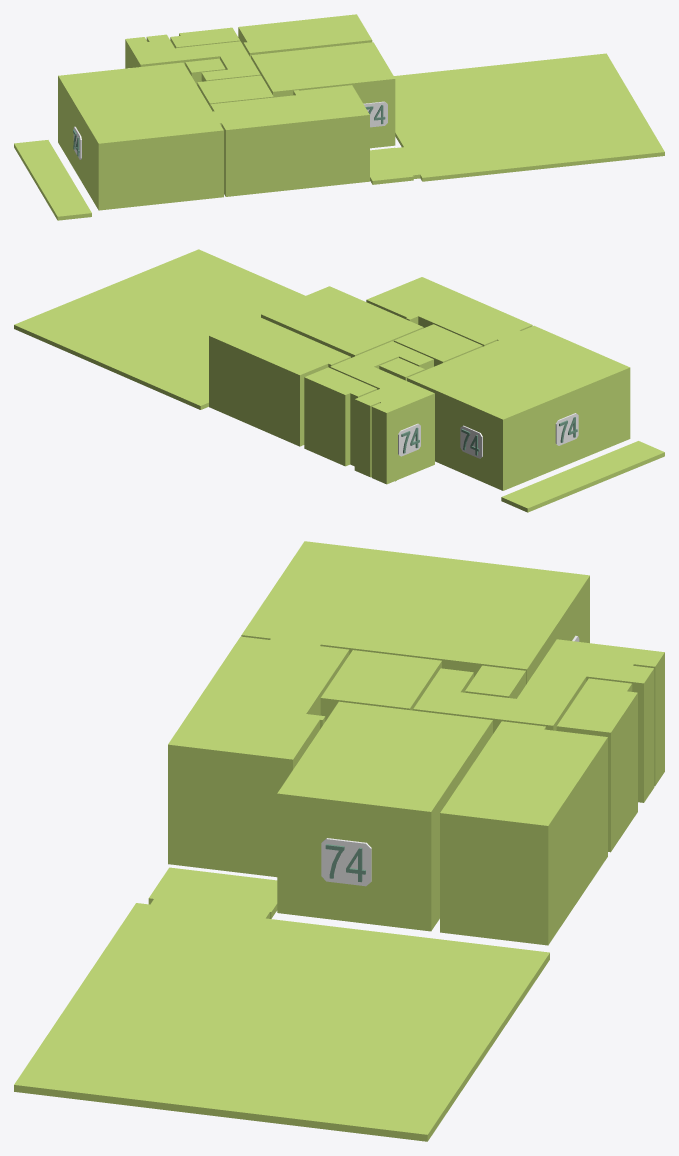
3 renders of one model, top to bottom at view 1: azimuth 30°, elevation 25°; view 2: azimuth 150°, elevation 25°; view 3: azimuth 270°, elevation 25°, orthographic. The views are drawn at different scales.
Parts seen in each view (by area): view 1: g_9, g_1, g_0, g_6, g_7, g_4, g_8, g_2, g_5, g_3, g_18; view 2: g_1, g_9, g_7, g_4, g_6, g_0, g_5, g_8, g_2, g_3, g_24, g_15 (+1 smaller); view 3: g_9, g_6, g_1, g_7, g_0, g_4, g_5, g_2, g_21, g_3.
Boxes of the visible parts, <box> form: g_9: <box>370,53,664,184</box>; g_1: <box>58,62,223,210</box>; g_0: <box>210,85,369,196</box>; g_6: <box>251,42,395,148</box>; g_7: <box>238,14,372,57</box>; g_4: <box>125,34,260,81</box>; g_8: <box>14,140,91,220</box>; g_2: <box>197,75,273,106</box>; g_5: <box>170,27,240,48</box>; g_3: <box>185,58,225,85</box>; g_18: <box>363,101,387,127</box>; g_1: <box>407,325,630,490</box>; g_9: <box>14,249,305,409</box>; g_7: <box>209,316,350,446</box>; g_4: <box>330,341,434,484</box>; g_6: <box>261,286,423,357</box>; g_0: <box>366,277,532,346</box>; g_5: <box>304,367,377,466</box>; g_8: <box>501,441,664,512</box>; g_2: <box>394,324,482,366</box>; g_3: <box>379,358,424,380</box>; g_24: <box>555,413,578,445</box>; g_15: <box>460,425,482,458</box>; g_9: <box>14,867,549,1141</box>; g_6: <box>277,701,492,931</box>; g_1: <box>241,541,589,684</box>; g_7: <box>440,721,607,945</box>; g_0: <box>168,636,349,877</box>; g_4: <box>413,639,664,802</box>; g_5: <box>556,678,637,852</box>; g_2: <box>320,650,441,721</box>; g_21: <box>321,838,371,886</box>; g_3: <box>465,665,525,698</box>.
Size of the model in its own units: 23.36 by 2.74 by 12.71.
